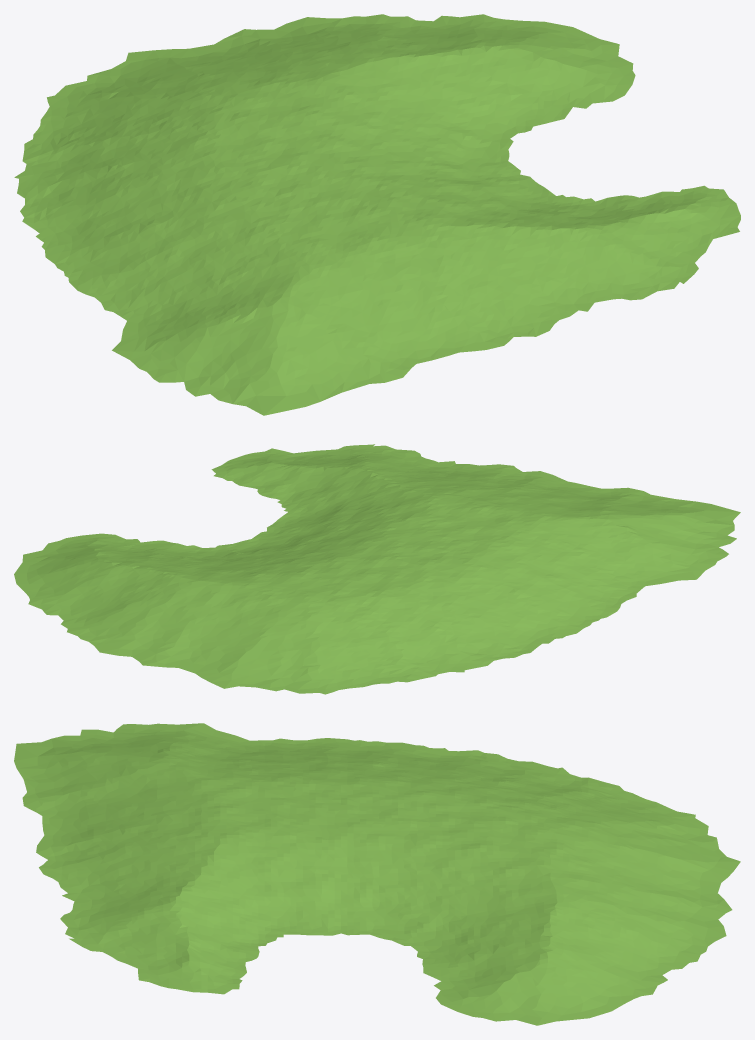
The model's file is MT_Island_H_b_01.fbx.
3 views of the same model, one above another, from view 1: azimuth 30°, elevation 25°; view 2: azimuth 150°, elevation 25°; view 3: azimuth 270°, elevation 25° (orthographic). The views are drawn at different scales.
Parts seen in each view (by area): view 1: MT_Island_H_b_01; view 2: MT_Island_H_b_01; view 3: MT_Island_H_b_01.
Part boxes in pixels (left/top/right/bottom): MT_Island_H_b_01: left=14, top=14, right=740, bottom=415; MT_Island_H_b_01: left=14, top=444, right=740, bottom=694; MT_Island_H_b_01: left=14, top=723, right=740, bottom=1025.
Size of the model in its own units: 44452 by 2246 by 45124.
